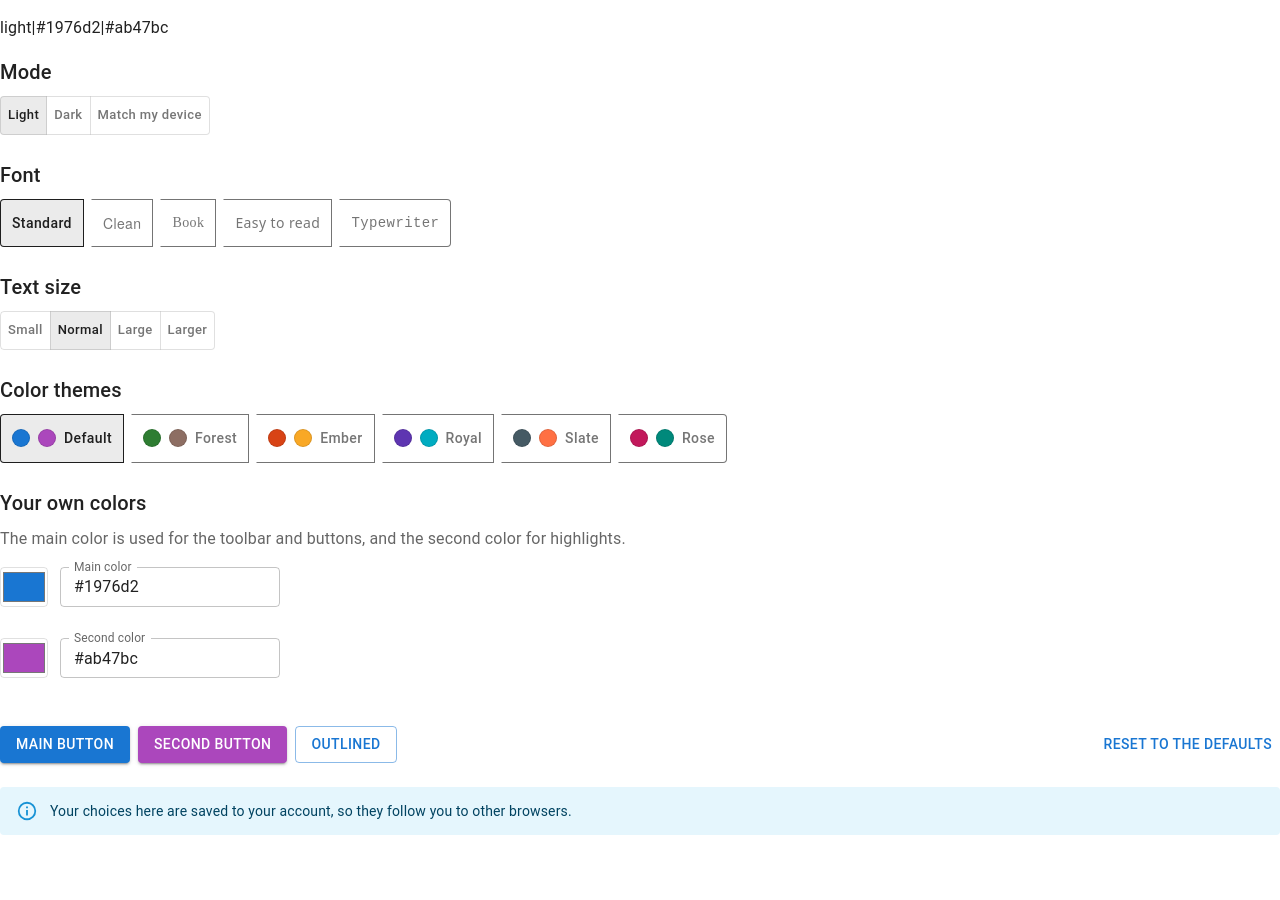
Scenario: mode › switches between light and dark, and keeps the choice
The width and height of the screenshot is (1280, 900).
Click the button "Dark" at (68, 115), box [46,96,90,135]
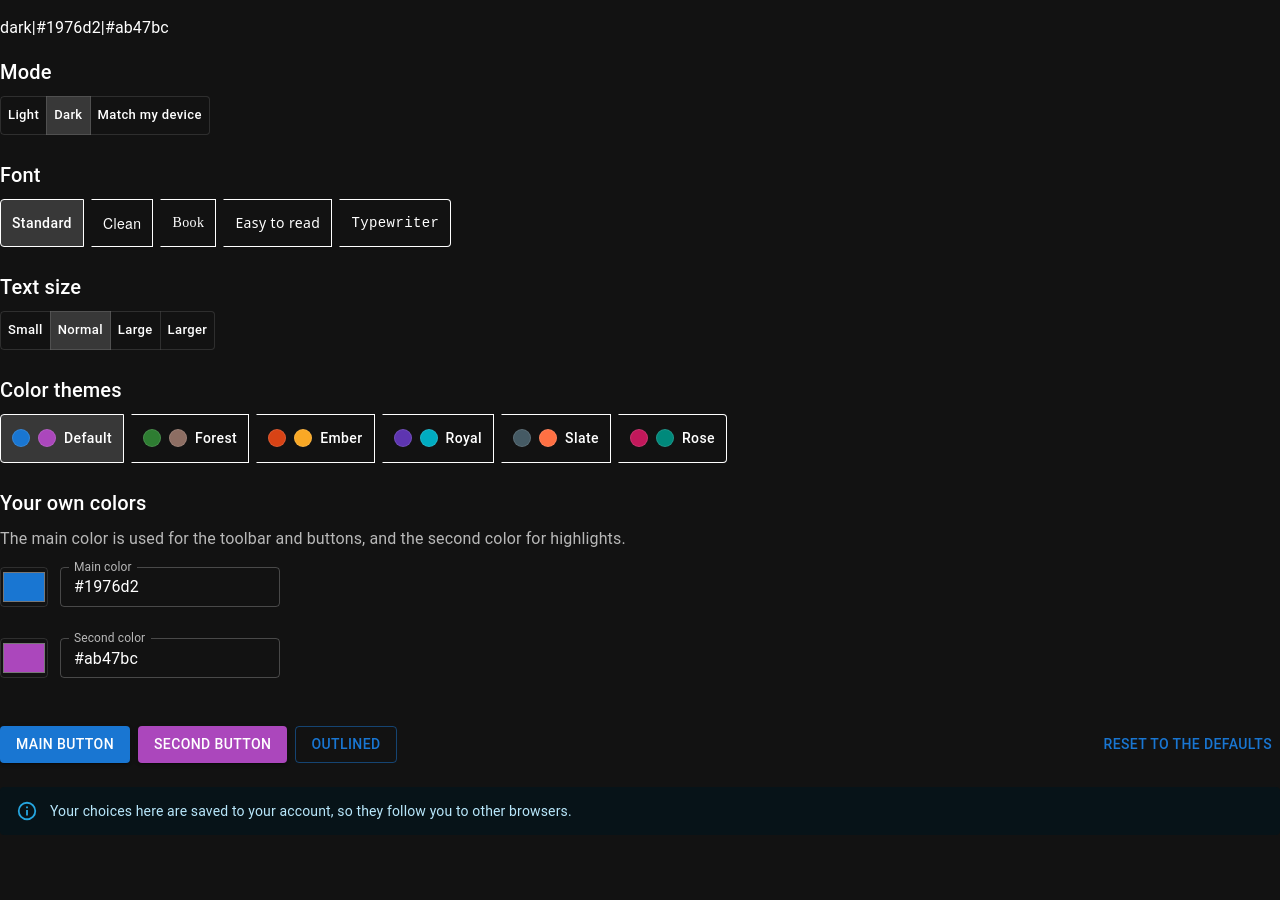
Result: the text with test id "probe" reads "dark|#1976d2|#ab47bc" at [0,18,32,37]
